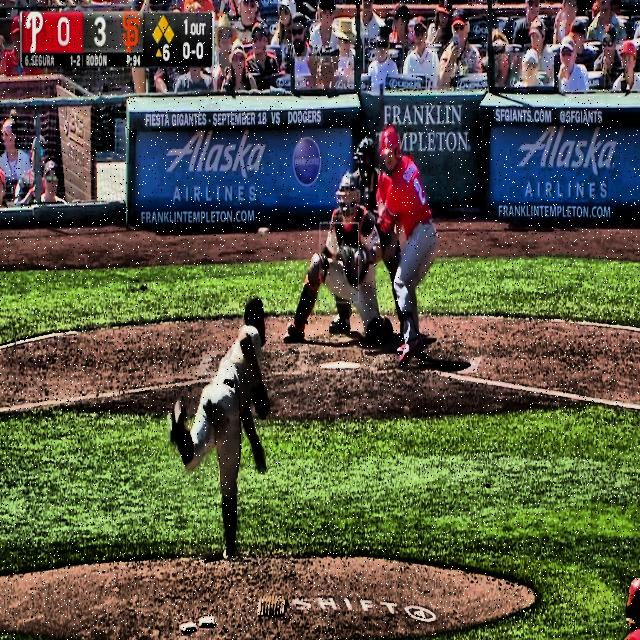baseball: (258, 227, 269, 239)
